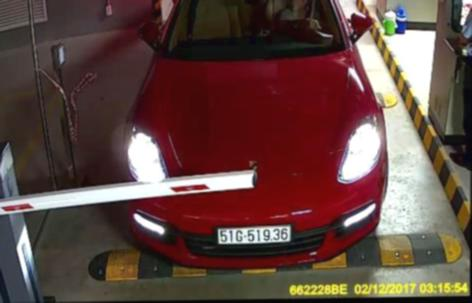License_Plate: (214, 222, 290, 246)
